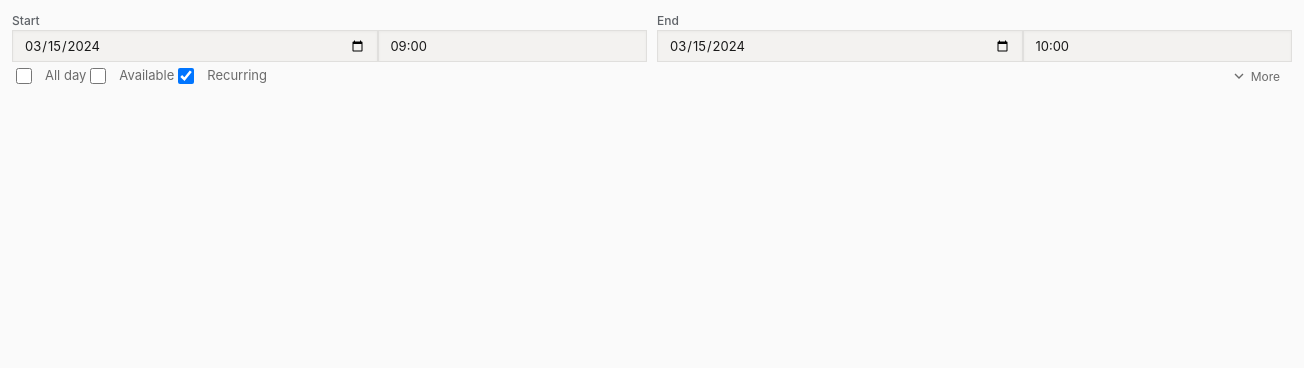
Scenario: EventFormFields › weekday selection with firstDayOfWeek=1 (Monday) › displays weekdays starting with Monday when firstDayOfWeek is 1
The width and height of the screenshot is (1304, 368).
Click the button "More" at coordinates (1255, 76), box [1219,62,1292,90]
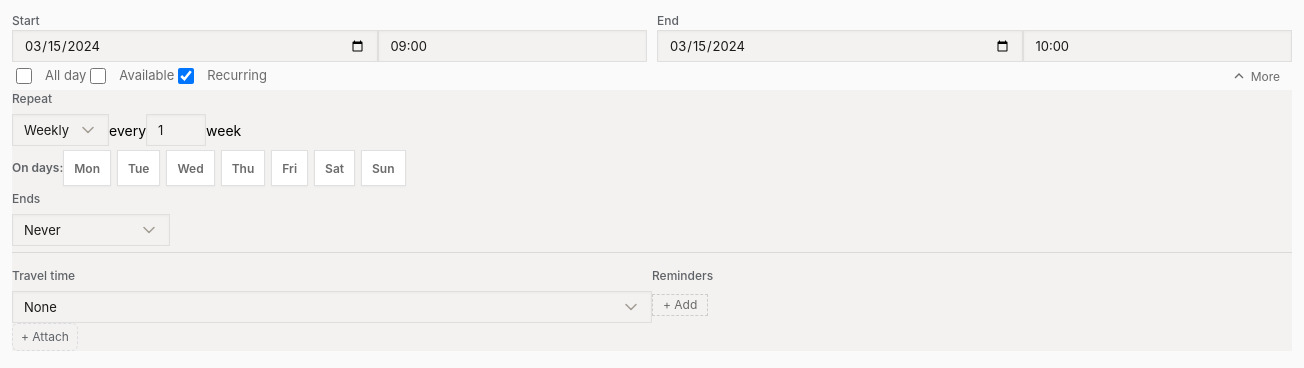
Result: the button with aria-label "Include" reads "Mon" at [63,150,111,186]
Result: the button with aria-label "Include" reads "Tue" at [117,150,160,186]
Result: the button with aria-label "Include" reads "Sun" at [361,150,406,186]
